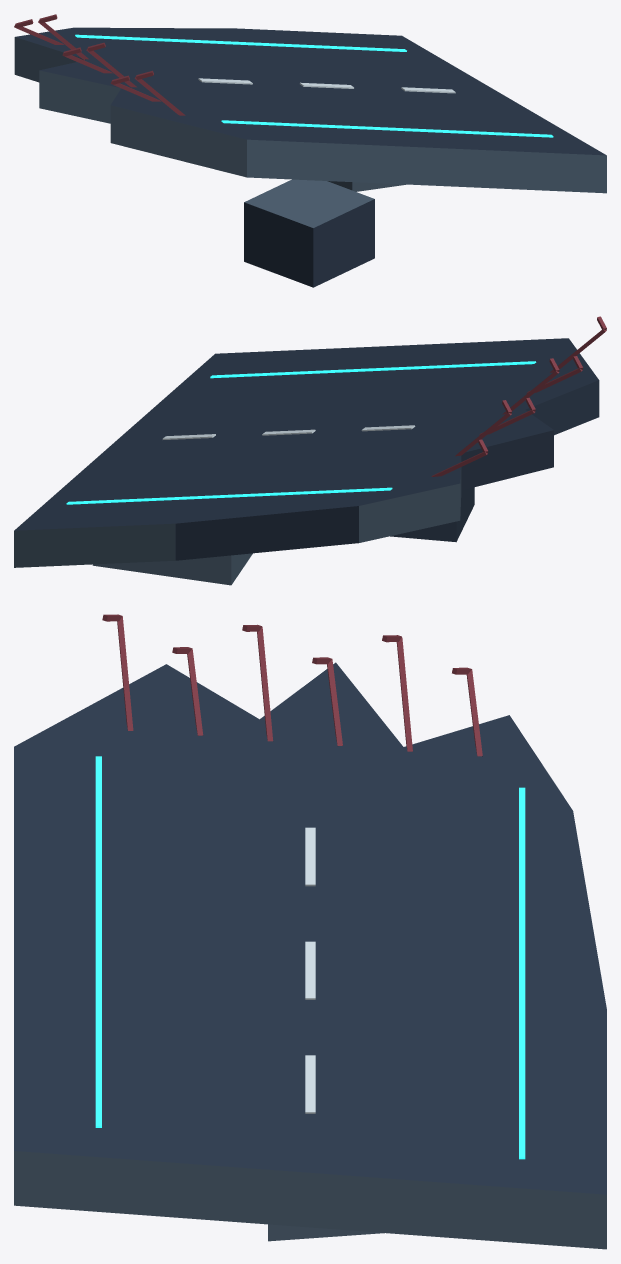
File: prop-debris-a-58ef51cb.glb
3 renders of one model, top to bottom at view 1: azimuth 30°, elevation 25°; view 2: azimuth 150°, elevation 25°; view 3: azimuth 270°, elevation 25°, orthographic. The views are drawn at different scales.
Visible parts, largest first — view 1: prop-debris-a_body; view 2: prop-debris-a_body; view 3: prop-debris-a_body.
Part boxes in pixels (bbox=[...]): prop-debris-a_body: bbox=[14, 14, 606, 287]; prop-debris-a_body: bbox=[14, 316, 606, 585]; prop-debris-a_body: bbox=[14, 614, 606, 1249].
Bounding box in the file's own units: 18 × 9 × 14.
